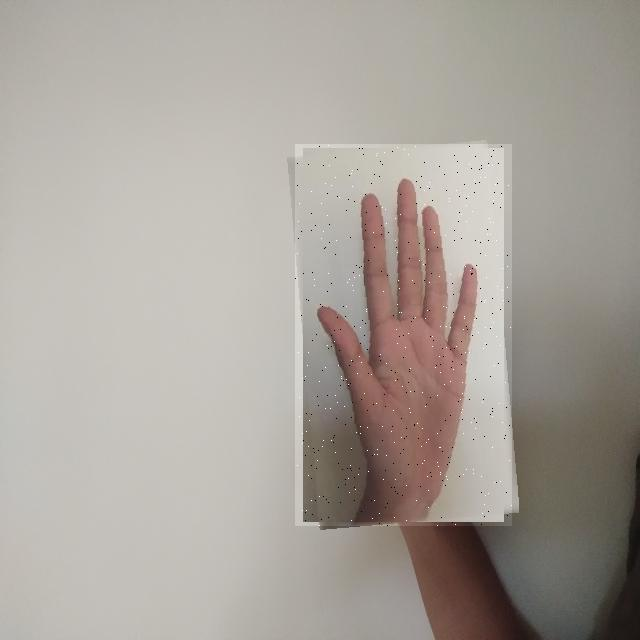Yes: (295, 144, 512, 526)
